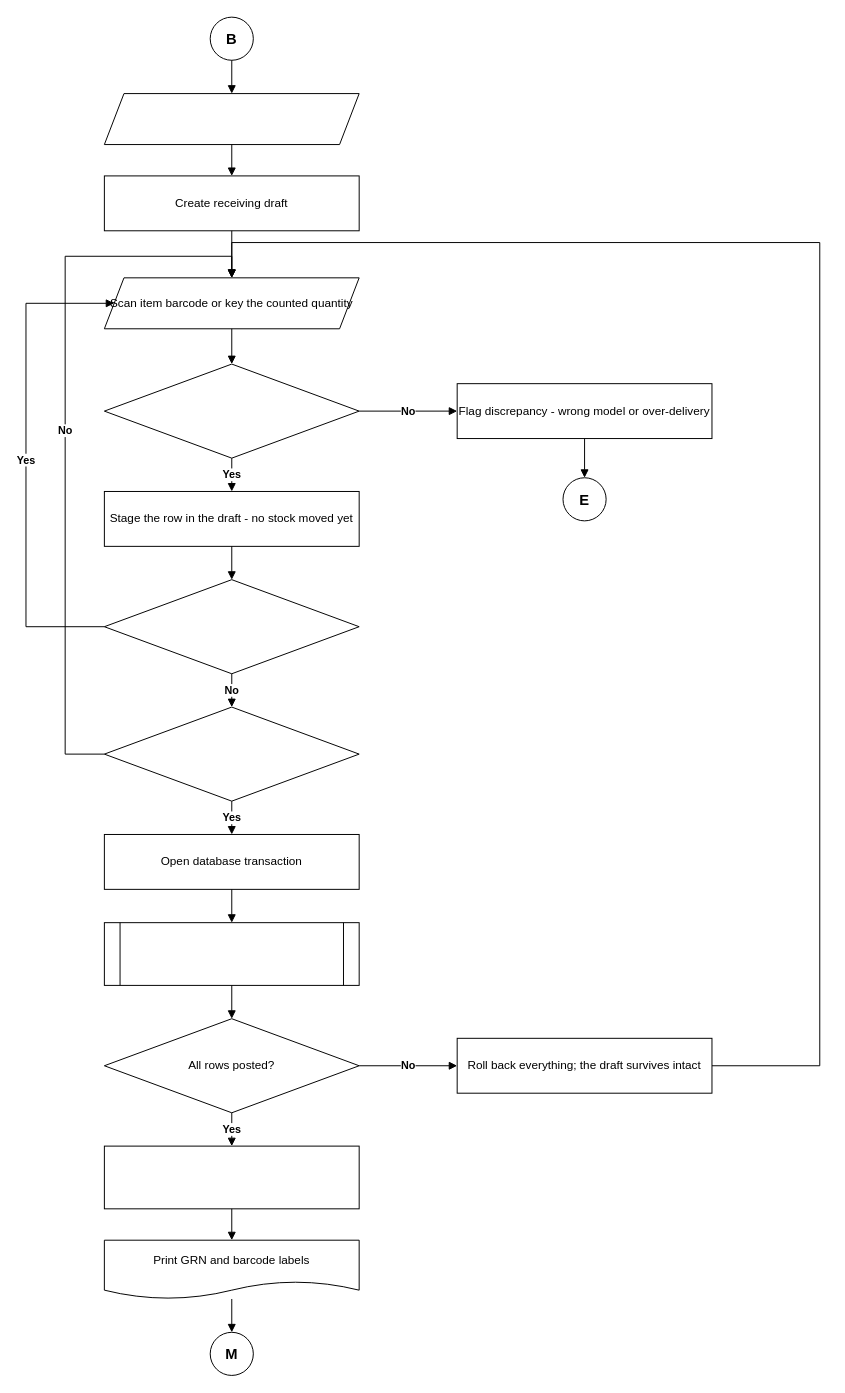
The diagram is 845 pixels wide and 1393 high, and some of its shapes have lost their labels. The shapes that lost their labels are listed below. From the top down, each one's box as (x1, y1, x2, y2) in pixels, then its label:
(103, 93, 359, 145): Enter delivery note and PO number
(103, 363, 359, 458): Item matches a PO line?
(103, 579, 359, 674): More items to receive?
(103, 706, 359, 801): Submit the draft?
(103, 922, 359, 985): ReceivingPostingService: post each staged row into inventory batches and tags
(103, 1145, 359, 1209): Commit the transaction; recompute PO status - Partially Received or Completed
